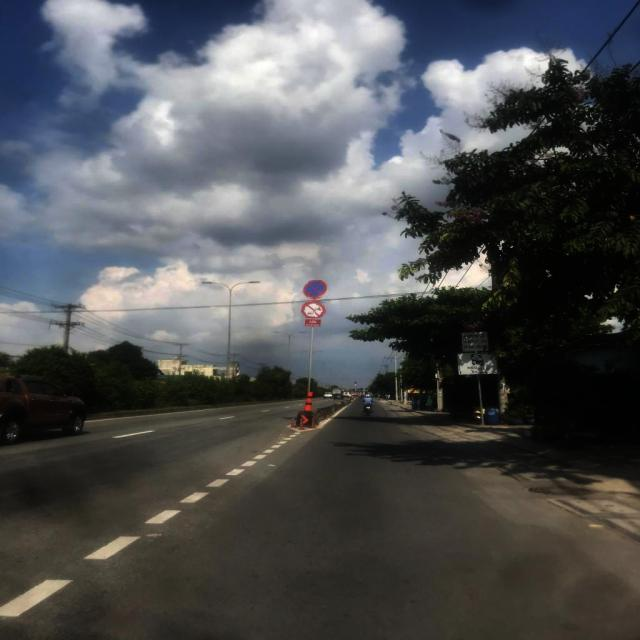cam_dung_xe_va_do_xe: (302, 280, 328, 299)
cam_o_to_tai_va_xe_khach: (460, 318, 487, 330)
cam_xe_2_banh_va_xe_3_banh_co_dong_co: (301, 300, 326, 318)
khac: (458, 352, 498, 374), (461, 332, 489, 352)
